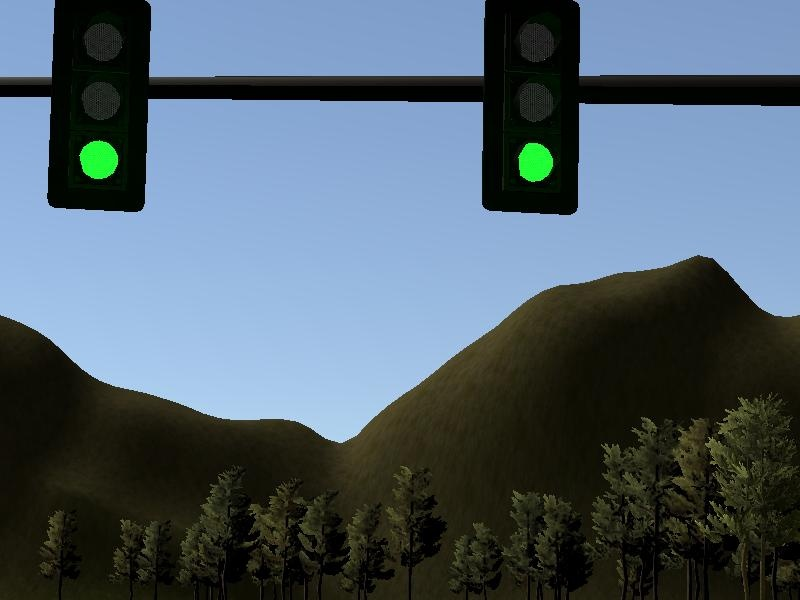traffic_light_green: (1, 1, 800, 223)
